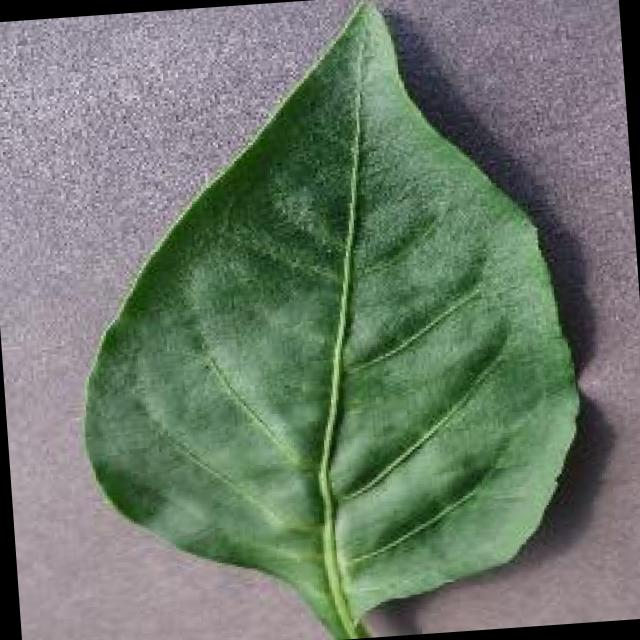Chilli_Healthy: (51, 0, 597, 640)
